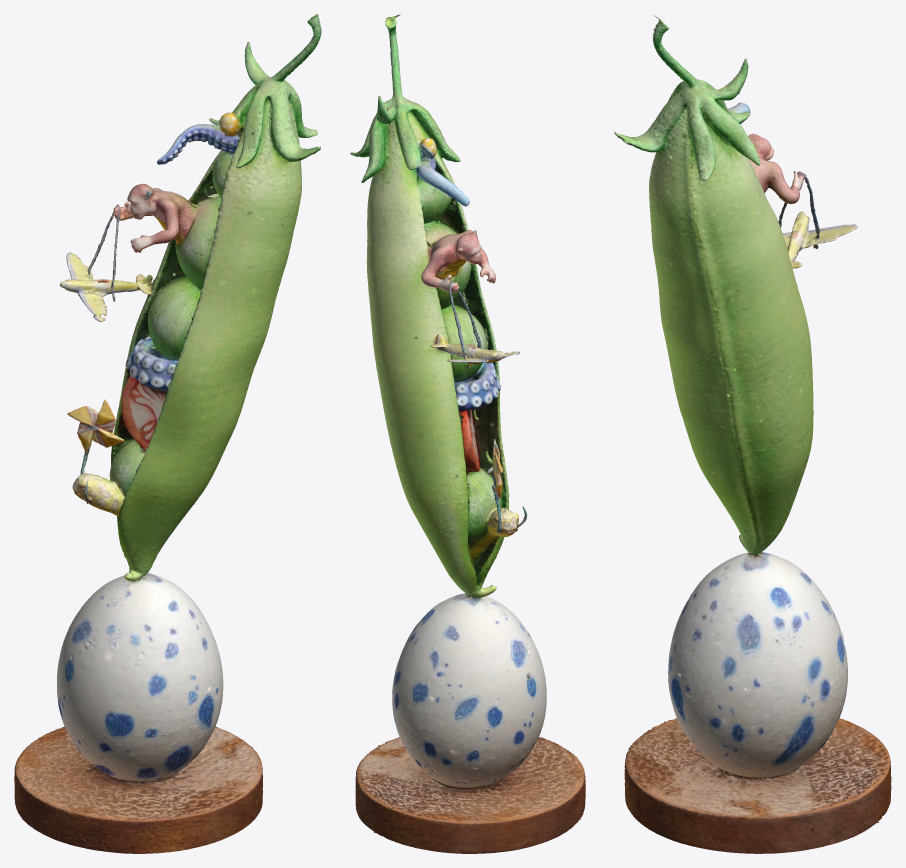
Rendered from sugandh-matar.glb.
The picture shows the model from 3 angles, left to right: view 1: azimuth 30°, elevation 25°; view 2: azimuth 150°, elevation 25°; view 3: azimuth 270°, elevation 25°; orthographic projection. The views are drawn at different scales.
Visible parts, largest first — view 1: eggshellwithBeans_001.001, eggshellwithBeans_001.002; view 2: eggshellwithBeans_001.001, eggshellwithBeans_001.002; view 3: eggshellwithBeans_001.001, eggshellwithBeans_001.002.
Boxes of the visible parts, x1,y1,x2,y2 form: eggshellwithBeans_001.001: (15,14,321,853); eggshellwithBeans_001.002: (14,15,321,850); eggshellwithBeans_001.001: (350,14,584,853); eggshellwithBeans_001.002: (350,20,585,851); eggshellwithBeans_001.001: (614,15,891,853); eggshellwithBeans_001.002: (652,19,857,779).
Bounding box in the file's own units: 13.44 × 38.67 × 11.44.
2 materials, 2 textured.
